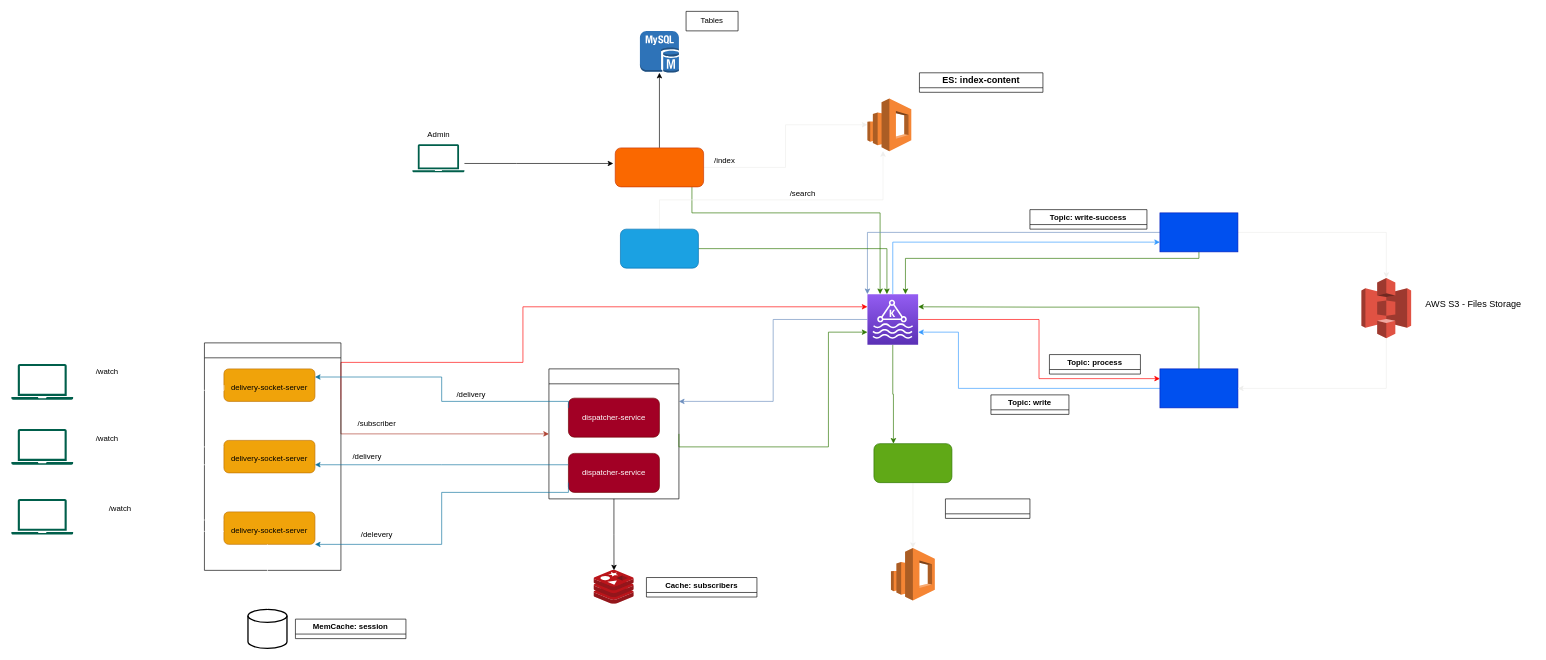
Some shapes in this 1546 by 660 pixel diagram are drawn without their labels. The box of each missing label's shape, as (x1, y1, x2, y2) in pixels:
admin-manager: (615, 147, 704, 187)
content-searcher: (620, 228, 698, 268)
Dispatcher-pool: (548, 368, 679, 499)
logcenter: (873, 443, 952, 483)
process-reader: (1159, 368, 1238, 408)
process-writter: (1159, 212, 1238, 252)
Socket-Pool: (204, 342, 341, 570)
